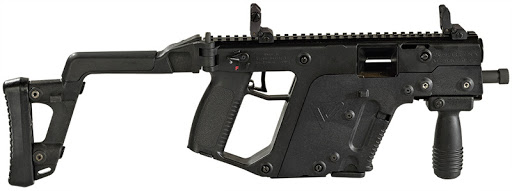Arma Real: (2, 3, 509, 186)
